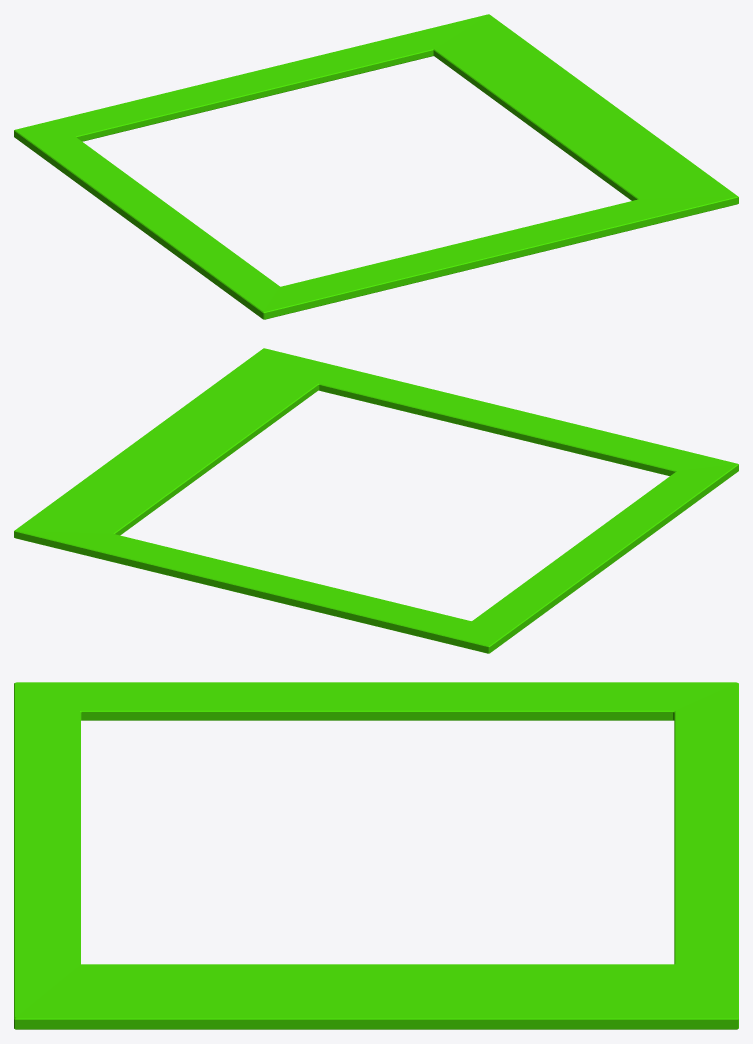
File: Sink_B_Base.fbx
3 views of the same model, one above another, from view 1: azimuth 30°, elevation 25°; view 2: azimuth 150°, elevation 25°; view 3: azimuth 270°, elevation 25° (orthographic). The views are drawn at different scales.
Visible parts, largest first — view 1: Sink_B_Base; view 2: Sink_B_Base; view 3: Sink_B_Base.
Part boxes in pixels (x1,y1,x2,y2): Sink_B_Base: (14,14,738,319); Sink_B_Base: (14,348,738,653); Sink_B_Base: (14,682,738,1029).
Bounding box in the file's own units: 442 × 6.89 × 402.
